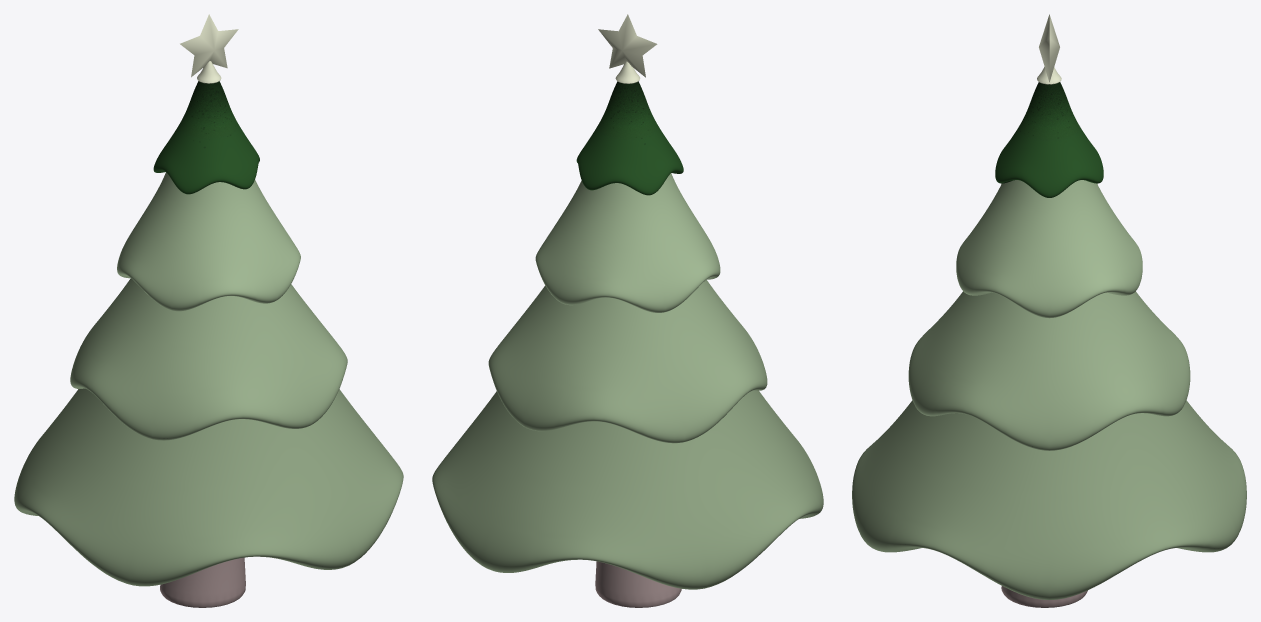
File: tree_testing2.glb
The picture shows the model from 3 angles, left to right: view 1: azimuth 30°, elevation 25°; view 2: azimuth 150°, elevation 25°; view 3: azimuth 270°, elevation 25°; orthographic projection.
Parts seen in each view (by area): view 1: Null.1, Cylinder.1, Extrude; view 2: Null.1, Cylinder.1, Extrude; view 3: Null.1, Extrude, Cylinder.1.
Boxes of the visible parts, <box> form: Null.1: <box>14,81,403,586</box>; Cylinder.1: <box>160,557,245,607</box>; Extrude: <box>180,14,238,77</box>; Null.1: <box>432,81,823,589</box>; Cylinder.1: <box>595,561,681,607</box>; Extrude: <box>598,14,657,77</box>; Null.1: <box>852,82,1246,599</box>; Extrude: <box>1039,14,1059,82</box>; Cylinder.1: <box>1001,586,1087,607</box>.
Bounding box in the file's own units: 5.4 × 8.79 × 5.41.
Materials: 6 (1 with a texture image).
